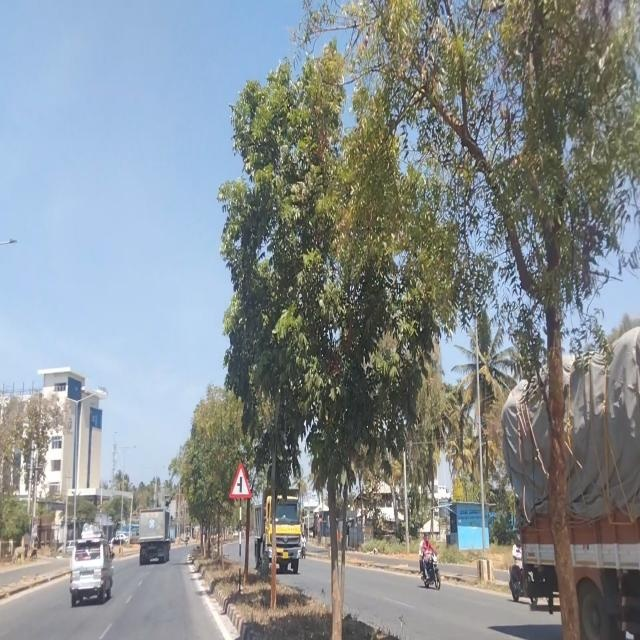bien_nguy_hiem: (228, 462, 251, 499)
